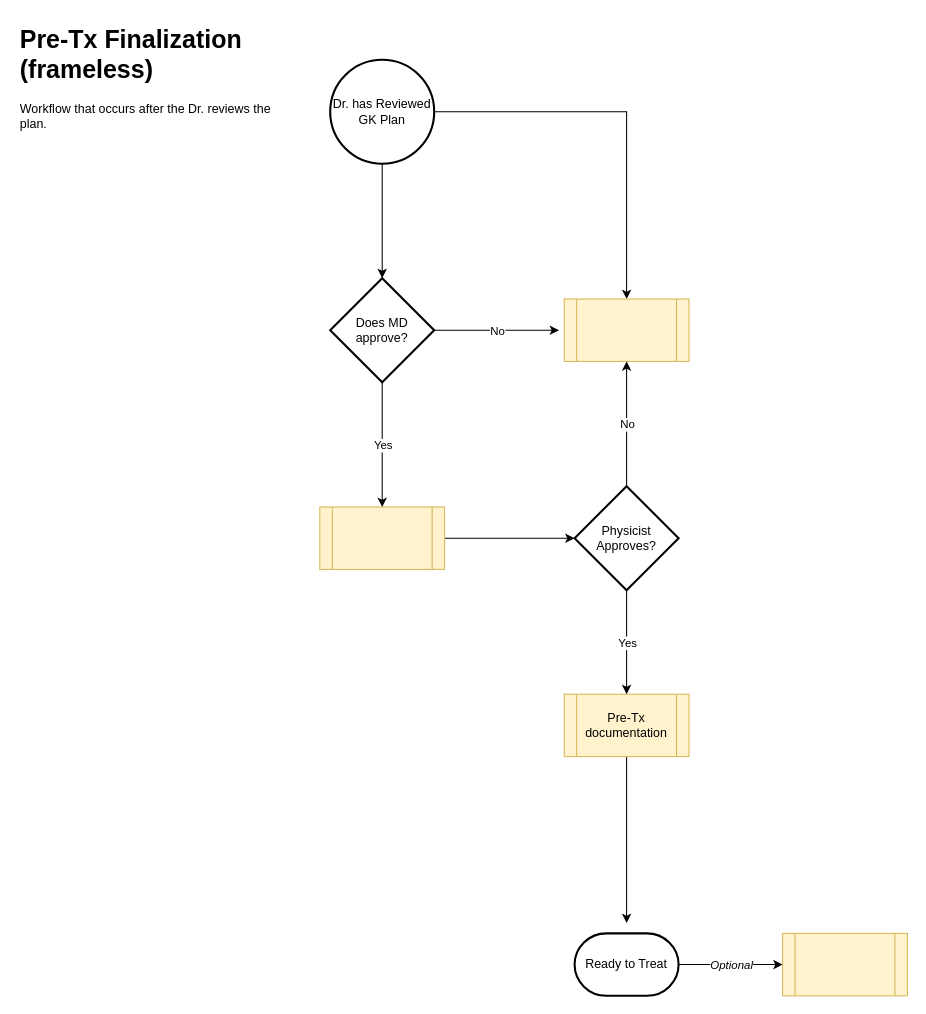
Some shapes in this 926 by 1014 pixel diagram are drawn without their labels. Each missing label, with the box of its shape:
Custom Bracket Creation: (782, 932, 907, 996)
GK Planning (frameless): (563, 298, 689, 361)
Physics Second Check: (319, 506, 445, 569)
